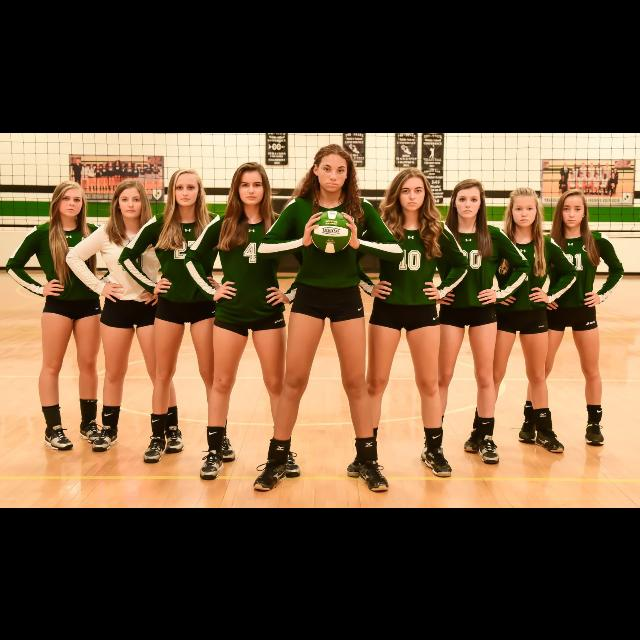head: (313, 146, 352, 192), (451, 179, 485, 219), (398, 167, 428, 211), (115, 178, 148, 218), (51, 179, 85, 217), (237, 160, 265, 206), (557, 188, 587, 228), (509, 188, 538, 226), (172, 170, 202, 206)
person: (252, 140, 406, 497), (182, 157, 320, 485), (340, 164, 470, 486), (116, 162, 247, 466), (62, 173, 192, 467), (412, 177, 536, 468), (458, 180, 586, 458), (3, 174, 127, 452), (512, 185, 628, 449)
